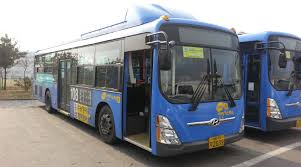entrance: (123, 49, 154, 151)
